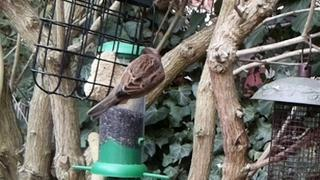sparrow: (86, 45, 167, 122)
